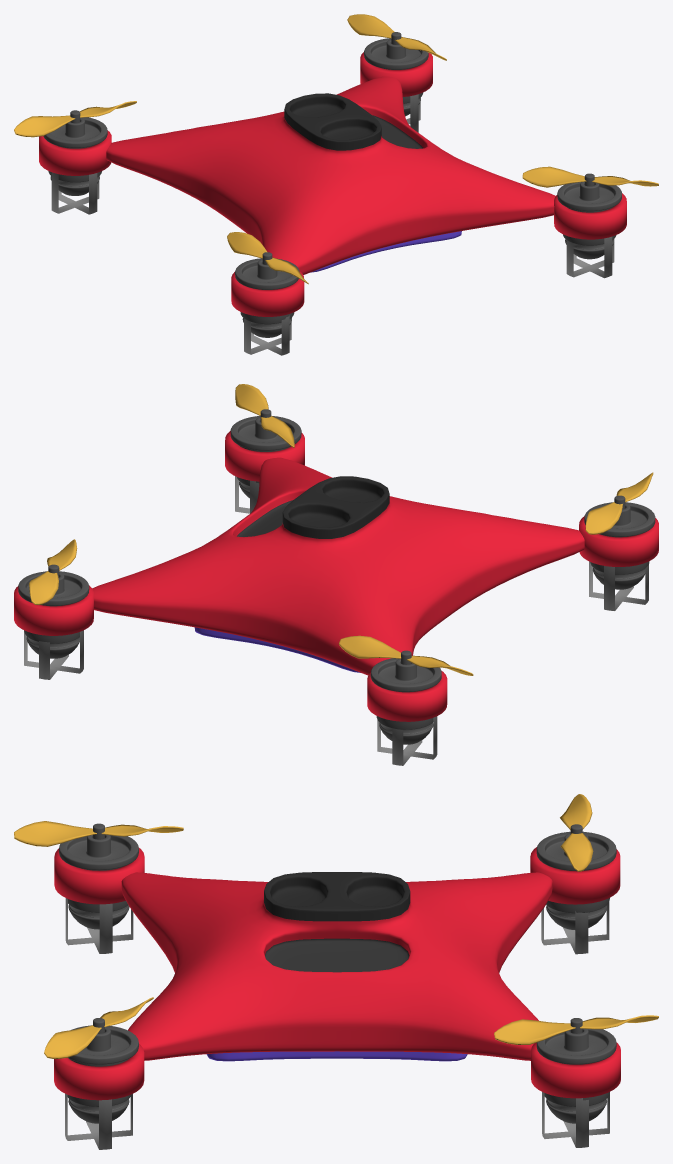
The model's file is Drone.gltf.
3 renders of one model, top to bottom at view 1: azimuth 30°, elevation 25°; view 2: azimuth 150°, elevation 25°; view 3: azimuth 270°, elevation 25°, orthographic. The views are drawn at different scales.
Parts seen in each view (by area): view 1: Cube, Cylinder.003, Cylinder.002, Cylinder.004, Cylinder.010, Cylinder.011, Cylinder.009, Cylinder.001, Cylinder.008, Plane.004, Plane.001, Plane.006 (+1 smaller); view 2: Cube, Cylinder.002, Cylinder.001, Cylinder.004, Cylinder.009, Cylinder.008, Cylinder.011, Cylinder.003, Cylinder.010, Plane, Plane.002, Plane.006 (+1 smaller); view 3: Cube, Cylinder.003, Cylinder.001, Cylinder.004, Cylinder.002, Cylinder.011, Cylinder.008, Cylinder.009, Cylinder.010, Plane.003, Plane.007, Plane.005 (+4 smaller).
Boxes of the visible parts, left/top/right/bottom form: Cube: left=106, top=76, right=555, bottom=274; Cylinder.003: left=554, top=193, right=626, bottom=278; Cylinder.002: left=39, top=130, right=111, bottom=214; Cylinder.004: left=231, top=271, right=304, bottom=355; Cylinder.010: left=557, top=173, right=621, bottom=259; Cylinder.011: left=235, top=252, right=299, bottom=337; Cylinder.009: left=43, top=110, right=107, bottom=195; Cylinder.001: left=360, top=52, right=432, bottom=132; Cylinder.008: left=364, top=32, right=428, bottom=116; Plane.004: left=522, top=166, right=586, bottom=187; Plane.001: left=14, top=115, right=75, bottom=137; Plane.006: left=347, top=14, right=394, bottom=38; Cube: left=92, top=457, right=584, bottom=675; Cylinder.002: left=367, top=671, right=447, bottom=765; Cylinder.001: left=14, top=585, right=93, bottom=679; Cylinder.004: left=579, top=516, right=658, bottom=610; Cylinder.009: left=370, top=650, right=441, bottom=744; Cylinder.008: left=18, top=564, right=89, bottom=658; Cylinder.011: left=584, top=495, right=655, bottom=589; Cylinder.003: left=225, top=431, right=304, bottom=513; Cylinder.010: left=230, top=409, right=301, bottom=498; Plane: left=338, top=635, right=401, bottom=658; Plane.002: left=585, top=502, right=622, bottom=534; Plane.006: left=29, top=571, right=58, bottom=604; Cube: left=121, top=872, right=552, bottom=1061; Cylinder.003: left=54, top=1044, right=144, bottom=1149; Cylinder.001: left=531, top=1042, right=620, bottom=1147; Cylinder.004: left=54, top=847, right=144, bottom=953; Cylinder.002: left=530, top=847, right=620, bottom=954; Cylinder.011: left=59, top=823, right=138, bottom=929; Cylinder.008: left=536, top=1018, right=616, bottom=1123; Cylinder.009: left=536, top=824, right=616, bottom=929; Cylinder.010: left=67, top=1018, right=138, bottom=1123; Plane.003: left=14, top=821, right=96, bottom=846; Plane.007: left=494, top=1019, right=575, bottom=1044; Plane.005: left=44, top=1025, right=101, bottom=1058.
Bounding box in the file's own units: 4.88 × 1.3 × 5.13.
